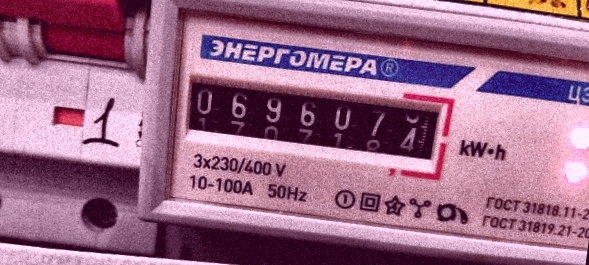0: (330, 100, 353, 132), (192, 85, 214, 115)
4: (397, 124, 417, 153)
6: (227, 89, 250, 119), (296, 98, 318, 129)
7: (366, 107, 386, 138)
9: (262, 94, 282, 124)
screen: (166, 56, 460, 180)
